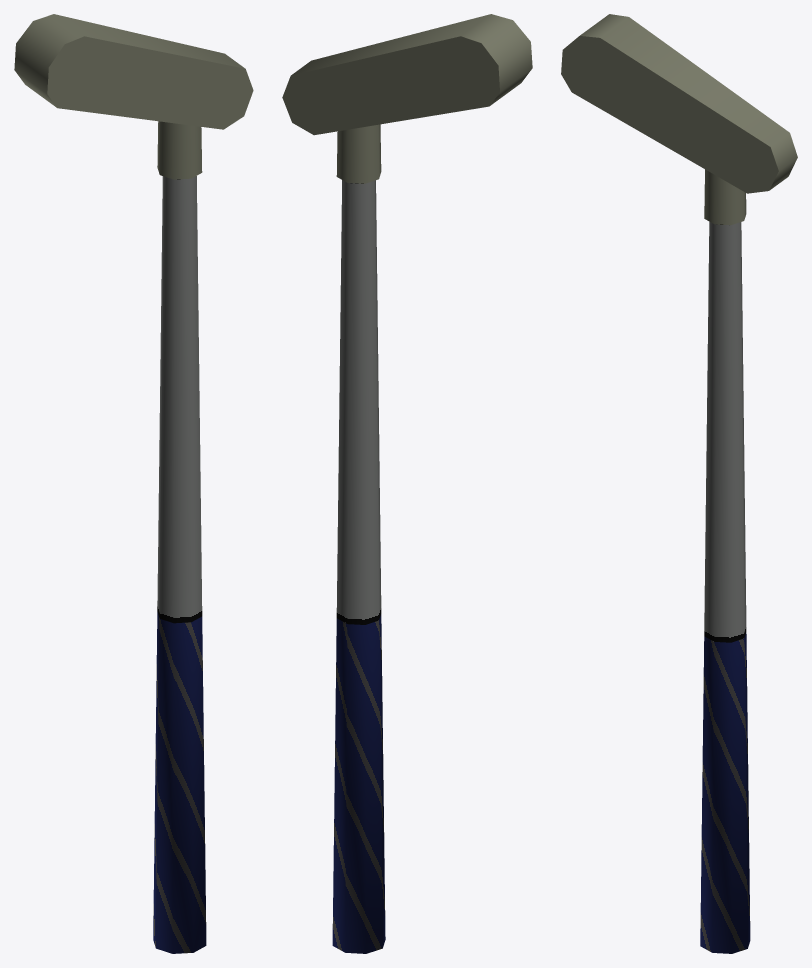
The model's file is glf_club__glf_club_PT.glb.
The picture shows the model from 3 angles, left to right: view 1: azimuth 30°, elevation 25°; view 2: azimuth 150°, elevation 25°; view 3: azimuth 330°, elevation 25°; orthographic projection. The views are drawn at different scales.
Visible parts, largest first — view 1: polygon0, polygon1; view 2: polygon0, polygon1; view 3: polygon0, polygon1.
Part boxes in pixels (bbox=[...]): polygon0: bbox=[14, 14, 253, 623]; polygon1: bbox=[153, 612, 206, 953]; polygon0: bbox=[282, 14, 532, 624]; polygon1: bbox=[332, 614, 385, 953]; polygon0: bbox=[561, 14, 797, 642]; polygon1: bbox=[700, 632, 750, 953].
Size of the model in its own units: 1.67 by 6.97 by 0.459.
2 materials, 2 textured.
